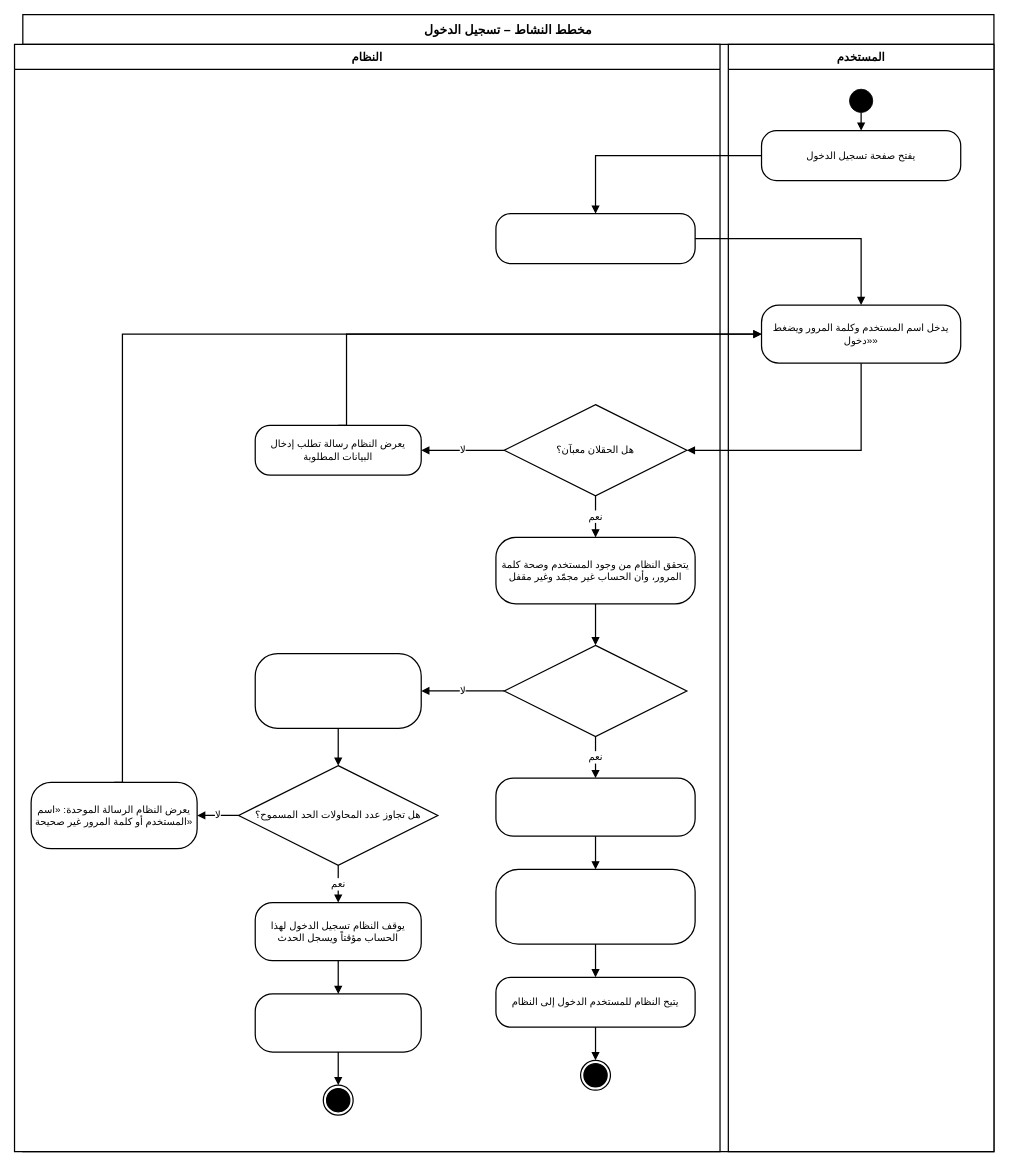
The diagram is 1009 pixels wide and 1167 high, and some of its shapes have lost their labels. Each missing label, with the box of its shape:
هل التحقق ناجح؟: (503, 644, 687, 737)
يسجل النظام المحاولة الفاشلة ويحتسبها ضمن الحد المسموح به من المحاولات: (254, 653, 421, 729)
يسجل النظام محاولة الدخول الناجحة ويعيد احتساب المحاولات الفاشلة من الصفر: (495, 868, 695, 944)
يسمح النظام للمستخدم بالدخول بحسب أدواره وصلاحياته: (495, 777, 695, 836)
يعرض النظام رسالة عامة تفيد بتعذر تسجيل الدخول حالياً: (254, 993, 421, 1052)
يعرض النظام نموذج تسجيل الدخول (اسم المستخدم، كلمة المرور): (495, 213, 695, 264)
